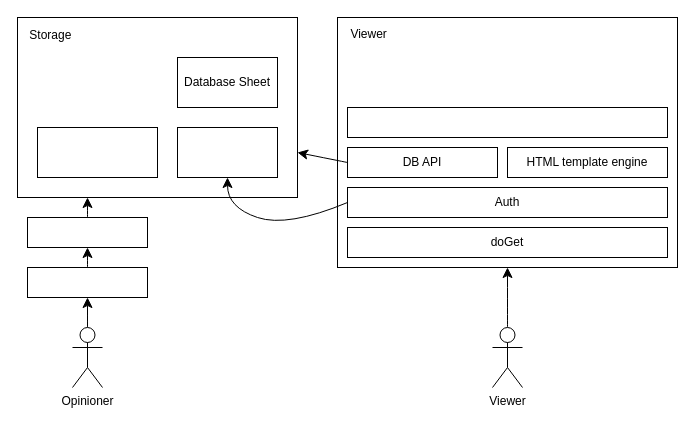
Some shapes in this 695 by 426 pixel diagram are drawn without their labels. Each missing label, with the centre of its shape:
"Form" belongs at [87,282].
"GAS Eventlistener" belongs at [87,232].
"Opinion Data Storage (txt file)" belongs at [97,152].
"template" belongs at [507,122].
"Users" belongs at [227,152].
